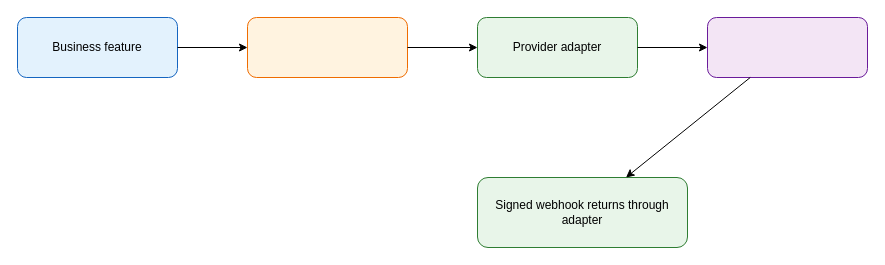
The diagram is 885 pixels wide and 265 high, and some of its shapes have lost their labels. Each missing label, with the centre of its shape:
External provider: point (787, 47)
Integration port: point (327, 47)
